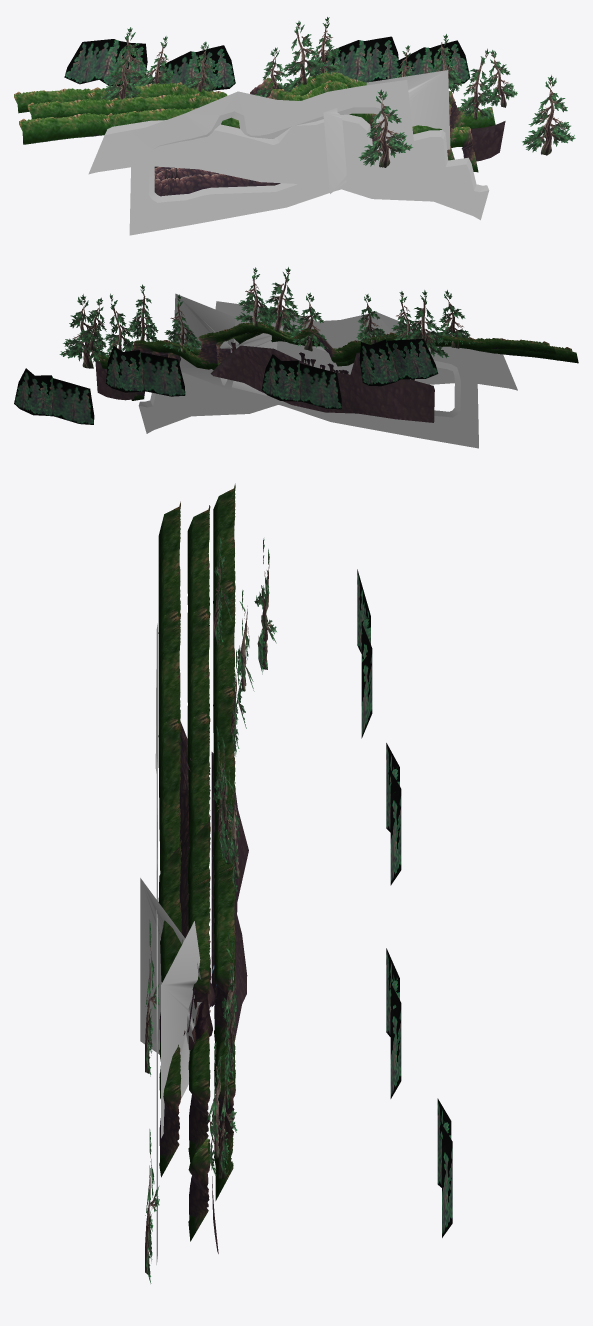
Rendered from Level 6 Deep Lake Pt 1.FBX.
3 renders of one model, top to bottom at view 1: azimuth 30°, elevation 25°; view 2: azimuth 150°, elevation 25°; view 3: azimuth 270°, elevation 25°, orthographic. The views are drawn at different scales.
Visible parts, largest first — view 1: Black Pt 1 Level 6, Black Cave Pt 1 Level 6, Pine Tree Group Pt 1_Level 6, Trees pt 1_Level 6, Ground Pt 1 _1, Ground Pt 1 _1 BG, Ground Pt 1 _1 FG, Trees pt 1 FG_Level 6, Cave 1 Exit Mask, Ground Pt 1 _2 FG, Cave 1 Entrance Mask, Dirt BG Pt 1 _2 Level 6 (+1 smaller); view 2: Pine Tree Group Pt 1_Level 6, Trees pt 1_Level 6, Black Pt 1 Level 6, Black Cave Pt 1 Level 6, Dirt BG Pt 1 Level 6, Ground Pt 1 _1 BG, Cave 1 Exit Mask, Trees pt 1 FG_Level 6, Ground Pt 1 _1 FG, Ground Pt 1 _1, Cave 1 Entrance Mask, Dirt BG Pt 1 _2 Level 6; view 3: Ground Pt 1 _1, Ground Pt 1 _1 FG, Ground Pt 1 _1 BG, Trees pt 1_Level 6, Pine Tree Group Pt 1_Level 6, Cave 1 Exit Mask, Cave 1 Entrance Mask, Ground Pt 1 _2 FG, Dirt BG Pt 1 Level 6, Trees pt 1 FG_Level 6.
Boxes of the visible parts, x1,y1,x2,y2 form: Black Pt 1 Level 6: [88, 114, 489, 220]; Black Cave Pt 1 Level 6: [129, 80, 413, 235]; Pine Tree Group Pt 1_Level 6: [64, 36, 470, 90]; Trees pt 1_Level 6: [100, 17, 517, 120]; Ground Pt 1 _1: [27, 80, 478, 172]; Ground Pt 1 _1 BG: [14, 72, 495, 128]; Ground Pt 1 _1 FG: [19, 107, 454, 160]; Trees pt 1 FG_Level 6: [358, 75, 575, 167]; Cave 1 Exit Mask: [366, 70, 450, 149]; Ground Pt 1 _2 FG: [154, 132, 381, 196]; Cave 1 Entrance Mask: [323, 108, 376, 193]; Dirt BG Pt 1 _2 Level 6: [463, 121, 505, 161]; Pine Tree Group Pt 1_Level 6: [14, 338, 438, 424]; Trees pt 1_Level 6: [77, 267, 474, 357]; Black Pt 1 Level 6: [138, 340, 517, 433]; Black Cave Pt 1 Level 6: [207, 301, 478, 448]; Dirt BG Pt 1 Level 6: [210, 345, 434, 422]; Ground Pt 1 _1 BG: [98, 322, 555, 369]; Cave 1 Exit Mask: [174, 293, 235, 390]; Trees pt 1 FG_Level 6: [59, 294, 109, 368]; Ground Pt 1 _1 FG: [168, 331, 578, 366]; Ground Pt 1 _1: [131, 321, 555, 400]; Cave 1 Entrance Mask: [220, 327, 282, 396]; Dirt BG Pt 1 _2 Level 6: [95, 360, 134, 400]; Ground Pt 1 _1: [187, 505, 210, 1241]; Ground Pt 1 _1 FG: [158, 501, 182, 1177]; Ground Pt 1 _1 BG: [213, 483, 235, 1200]; Trees pt 1_Level 6: [206, 537, 276, 1178]; Pine Tree Group Pt 1_Level 6: [357, 569, 452, 1237]; Cave 1 Exit Mask: [161, 921, 200, 1138]; Cave 1 Entrance Mask: [140, 878, 201, 1056]; Ground Pt 1 _2 FG: [179, 722, 190, 1035]; Dirt BG Pt 1 Level 6: [233, 788, 248, 1039]; Trees pt 1 FG_Level 6: [145, 920, 159, 1283].
Size of what is drawn, in the model's own units: 6776 by 1747 by 2970.
